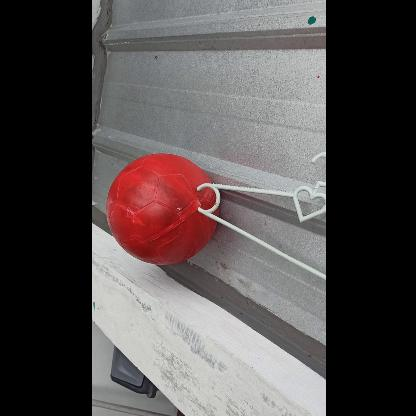red_ball: (106, 152, 218, 264)
